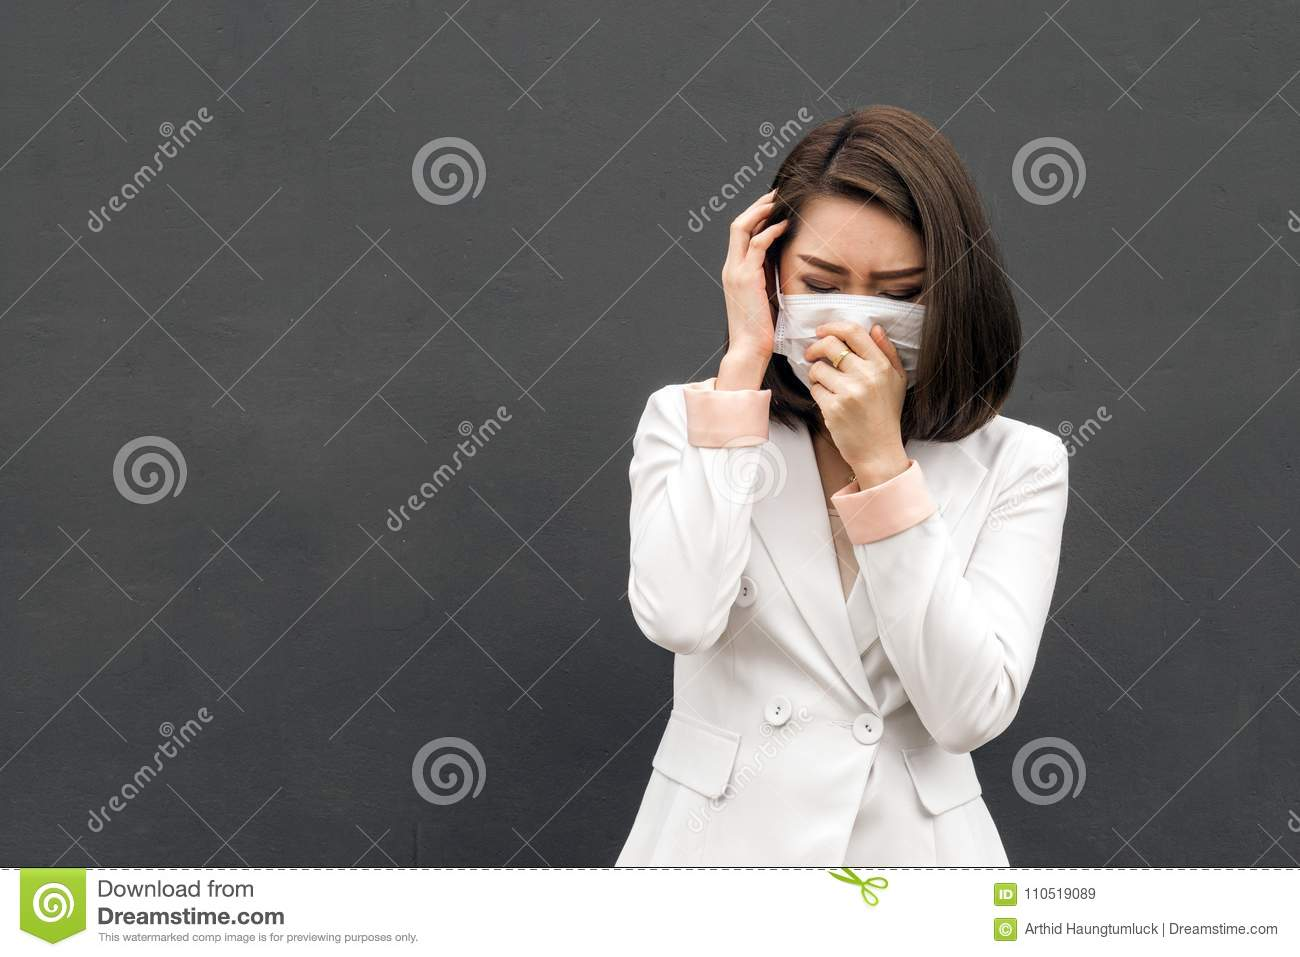mask: (775, 298, 930, 398)
